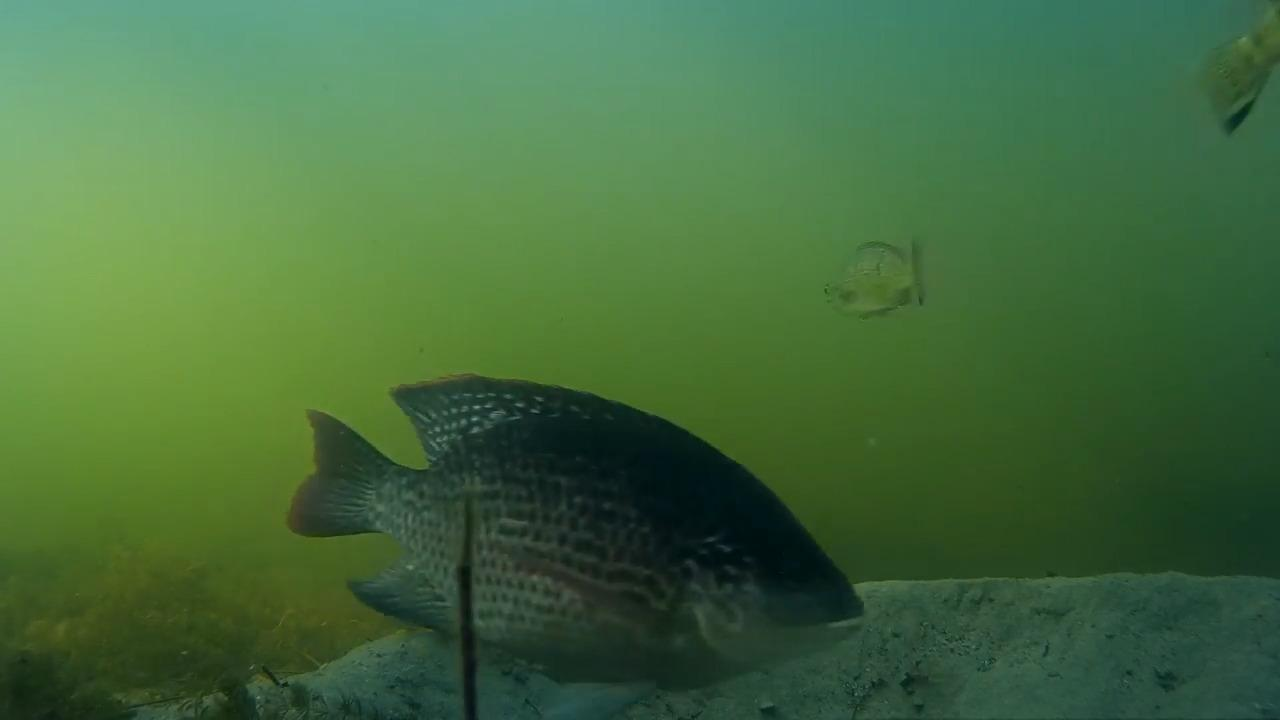Tilapia: (295, 366, 864, 680), (816, 232, 931, 352), (1201, 0, 1280, 130)
